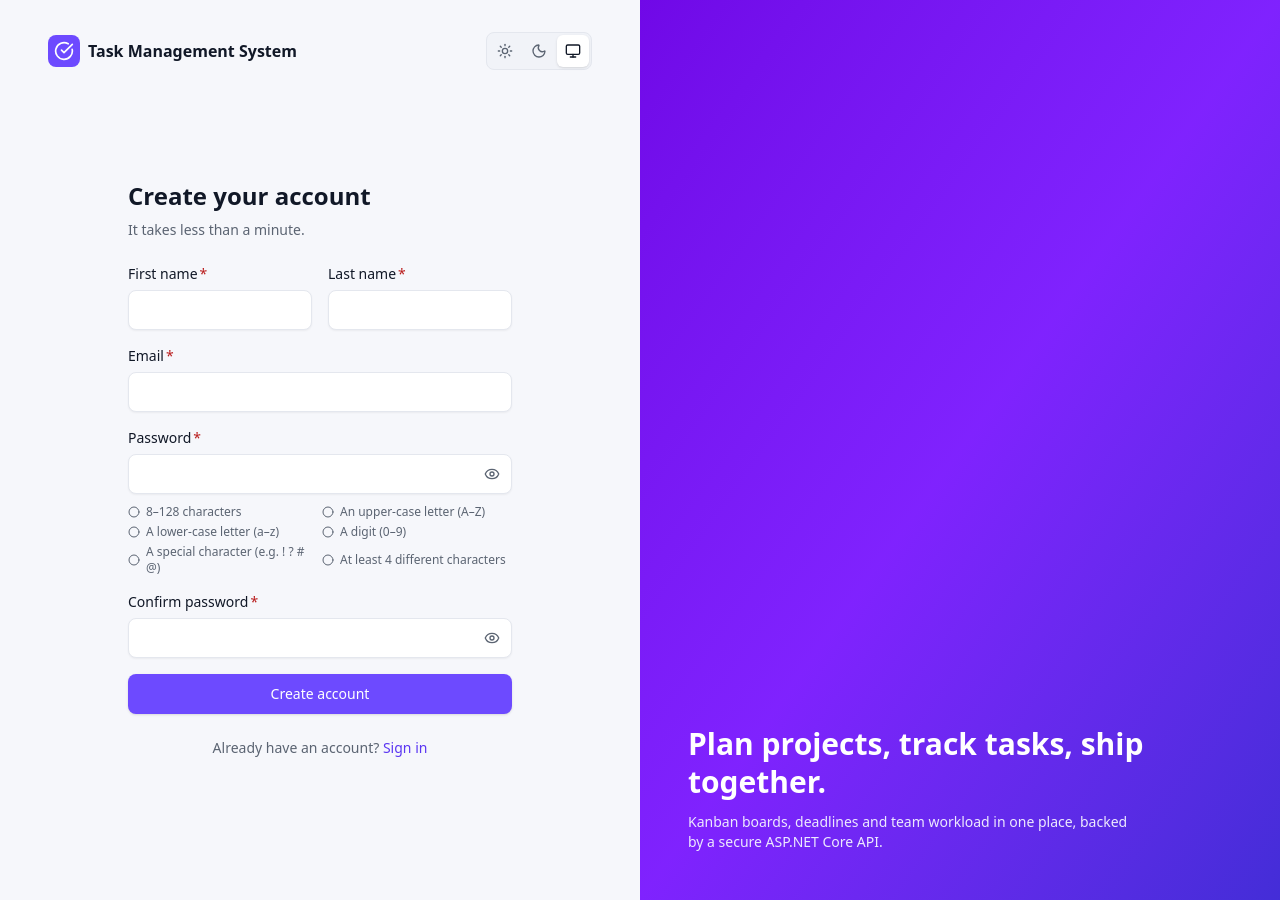
Test case: Registration › registers (without sending the confirmation field) and shows "check your email"
Expected: the heading "Create your account" is shown, [128,179,371,212]
Type "Jane" into the field labelled "First name" at (220, 310), box [128,290,312,330]
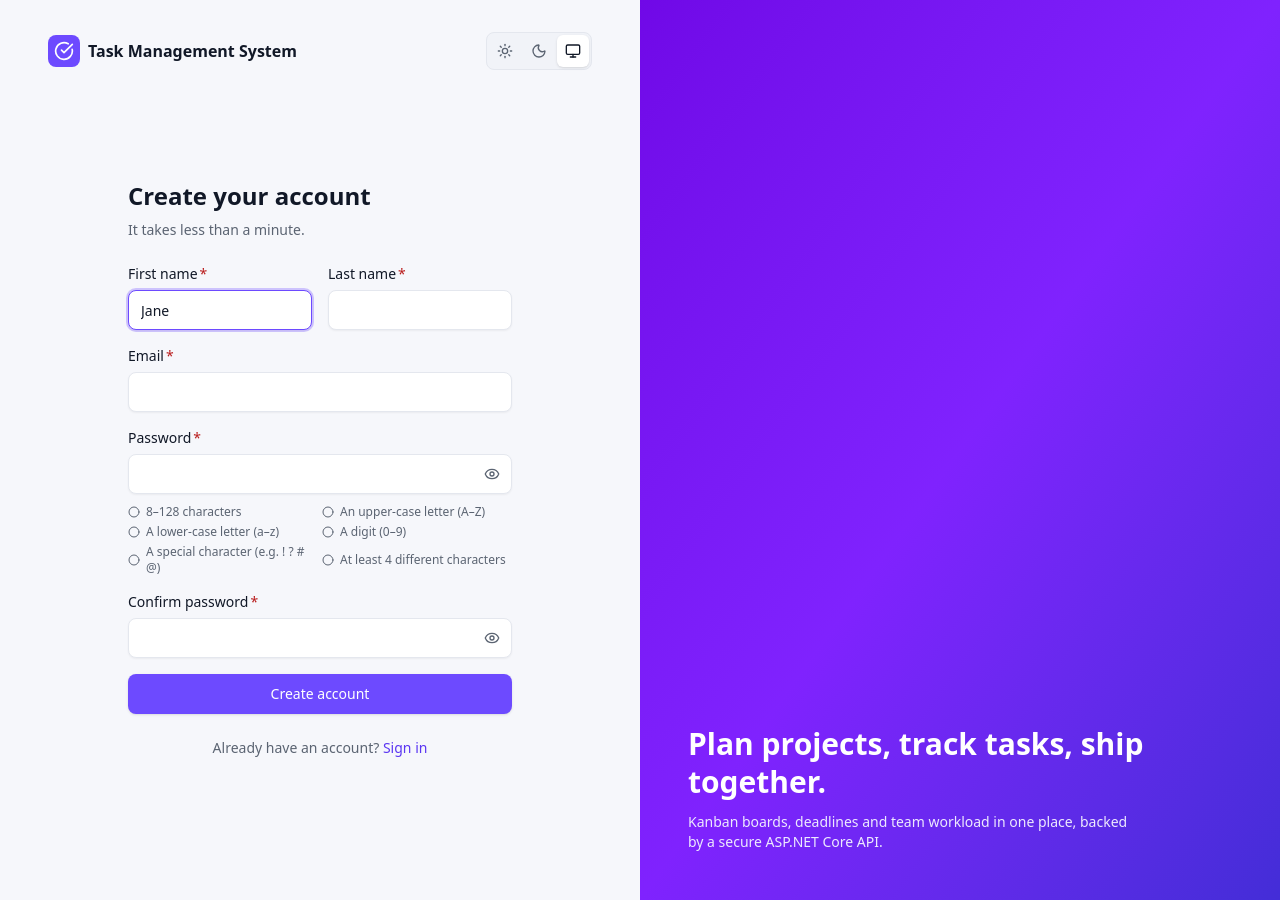
Type "Doe" into the field labelled "Last name" at (420, 310), box [328,290,512,330]
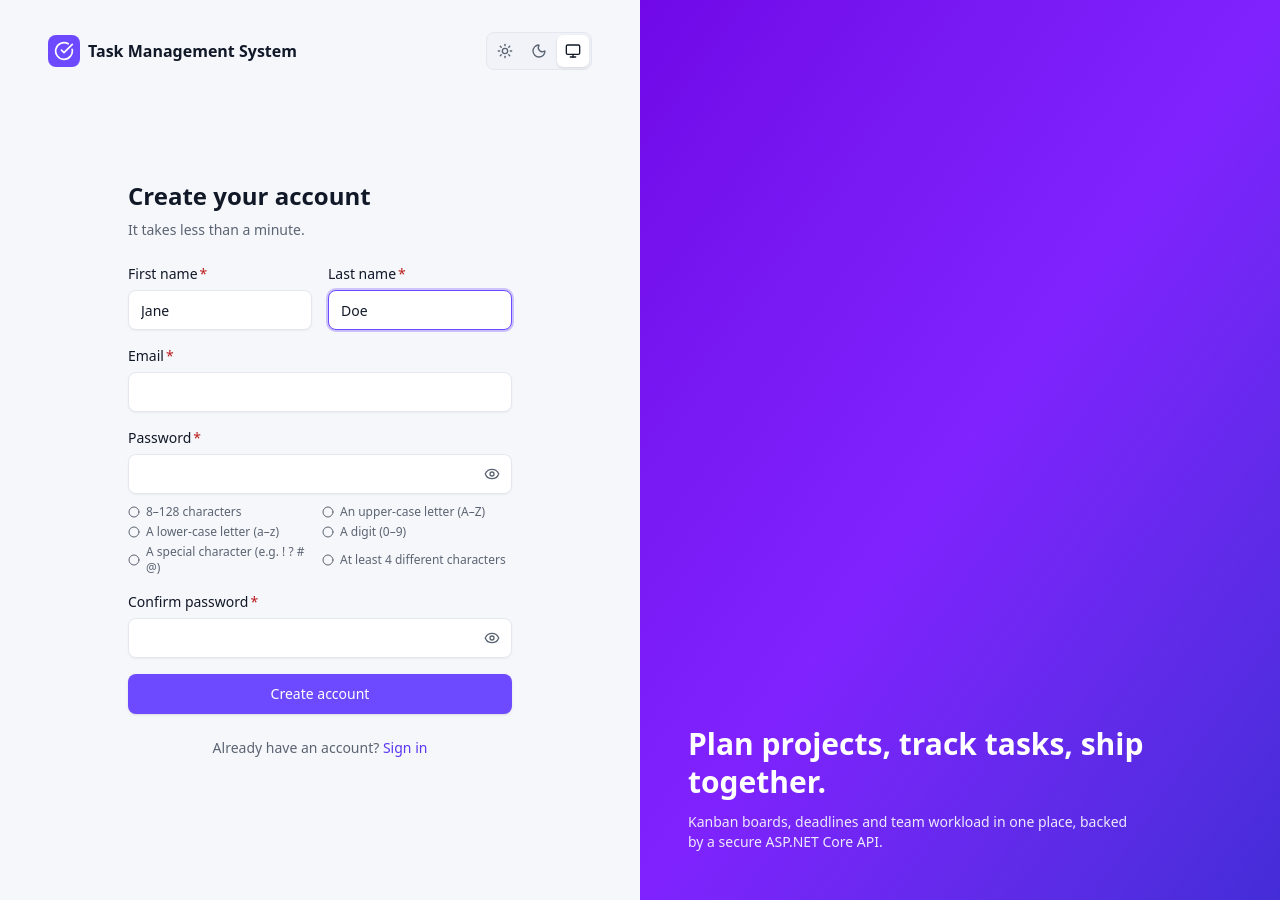
Type "jane.doe@example.com" into the field labelled "Email" at (320, 392), box [128,372,512,412]
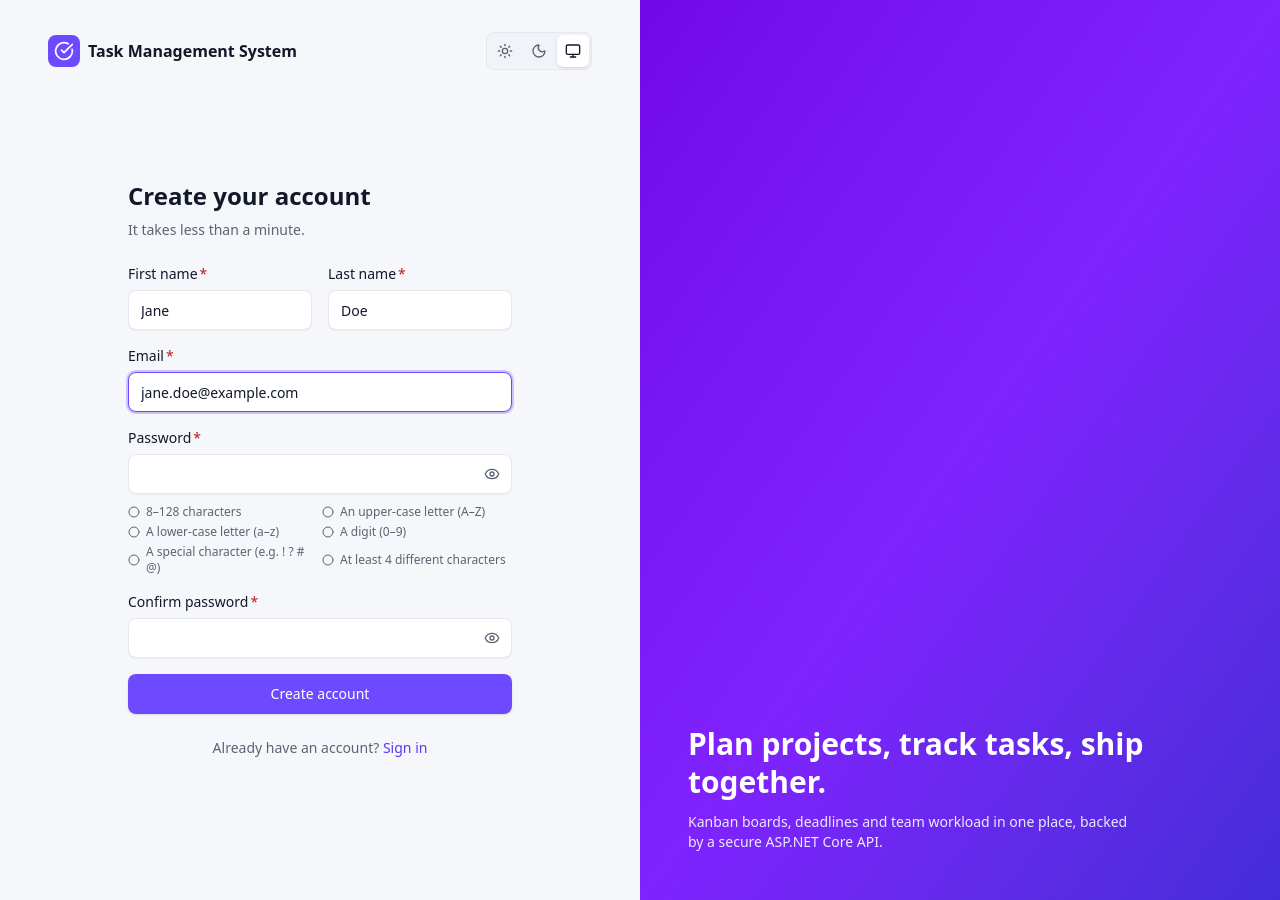
Type "Str0ng!Pass" into the password field labelled "Password" at (320, 474), box [128,454,512,494]
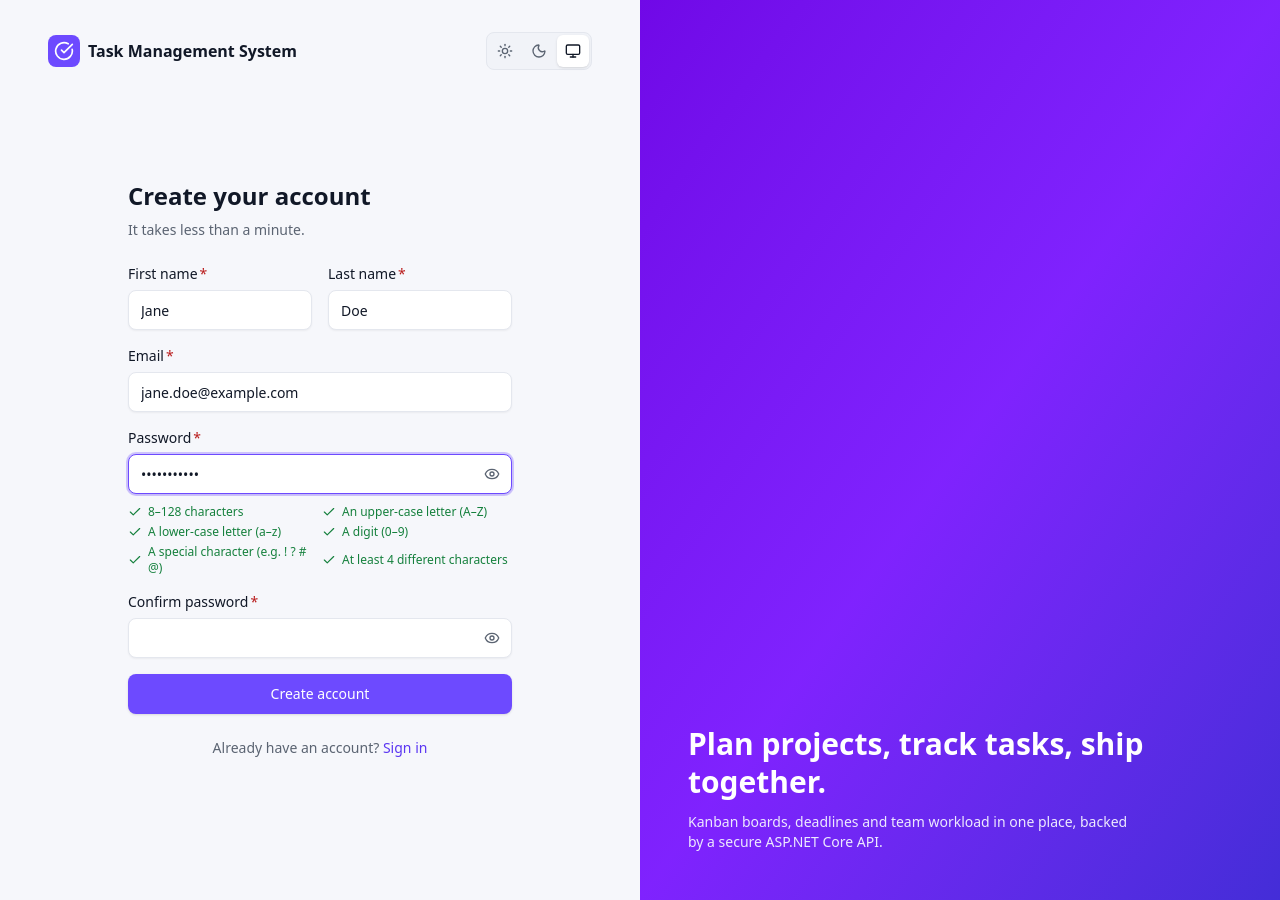
Type "Str0ng!Pass" into the password field labelled "Confirm password" at (320, 638), box [128,618,512,658]
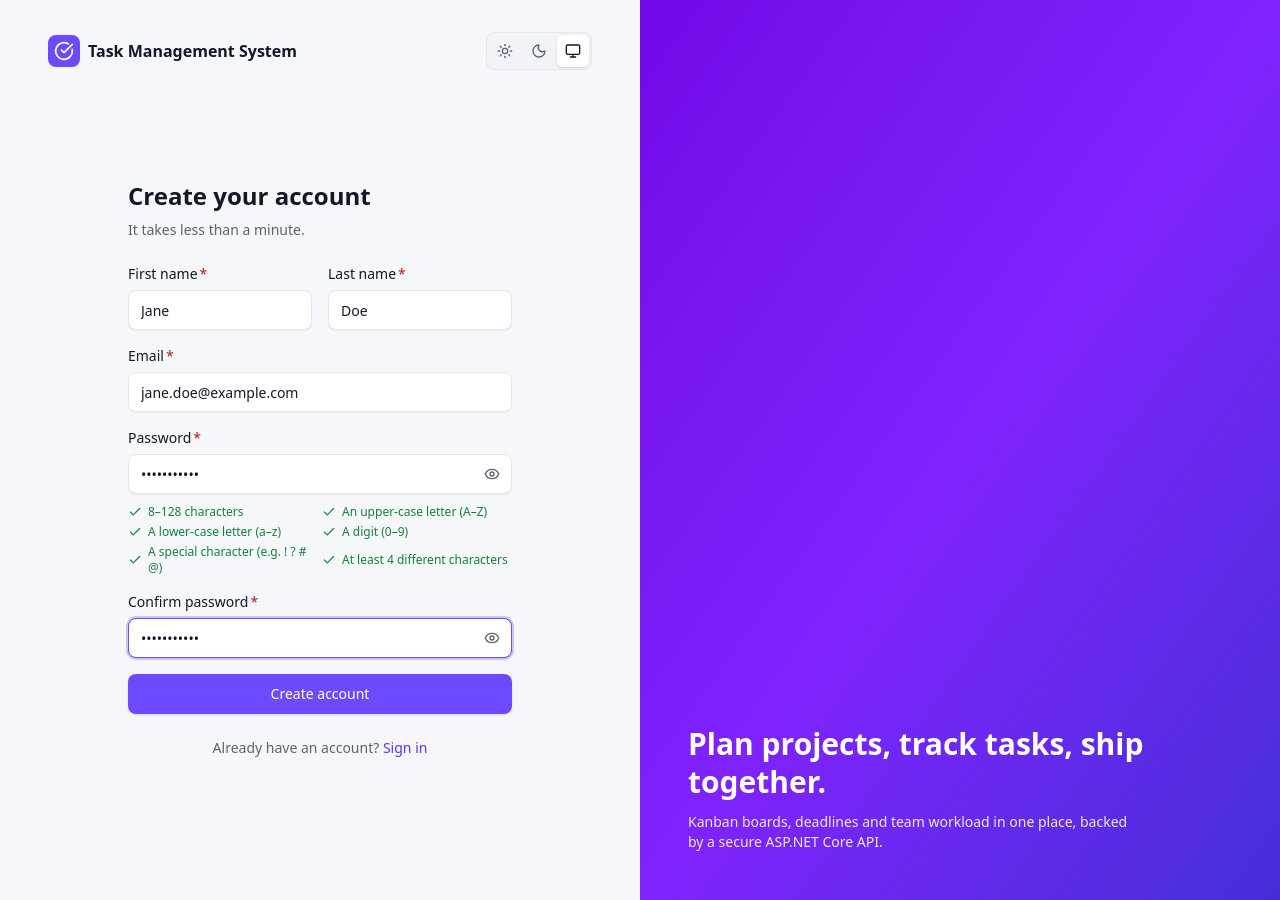
Click the button "Create account" at (320, 694), box [128,674,512,714]
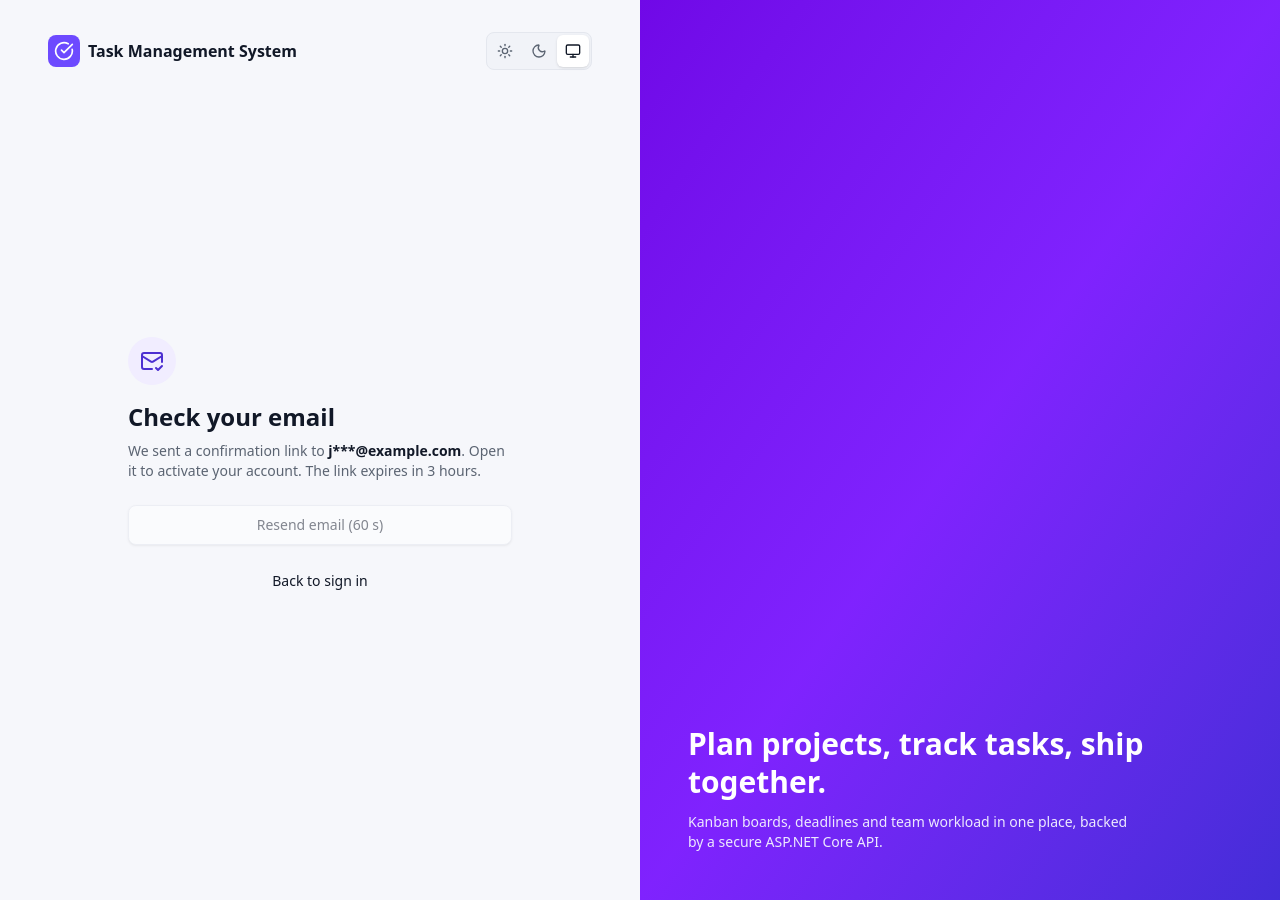
Result: the heading "Check your email" is shown at [128,400,335,433]
Result: the text "j***@example.com" is shown at [328,441,461,460]
Result: the button "Resend email (60 s)" is disabled at [128,505,512,545]
